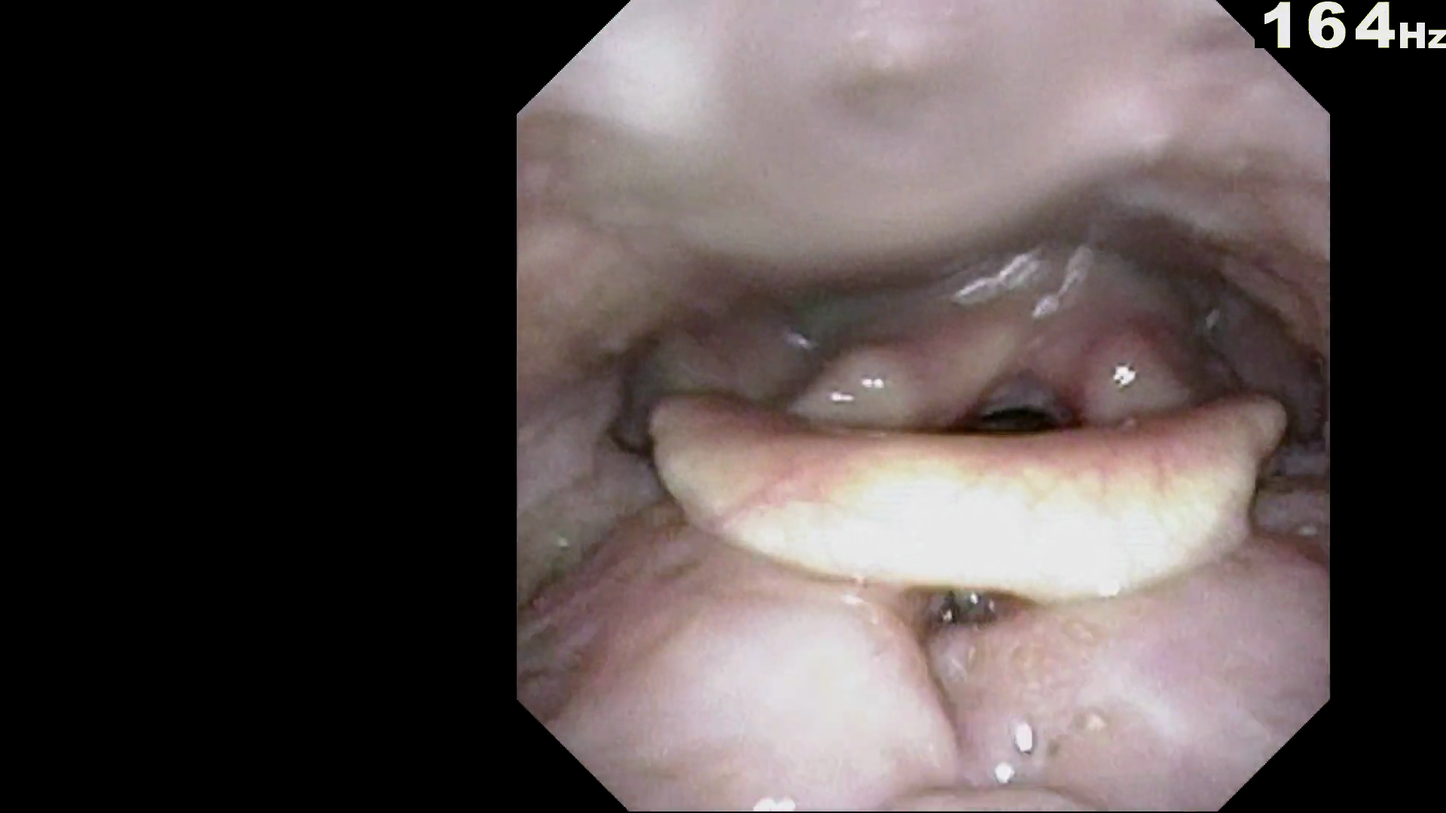epiglottis: (657, 432, 1301, 581)
trachea: (935, 386, 1089, 467)
